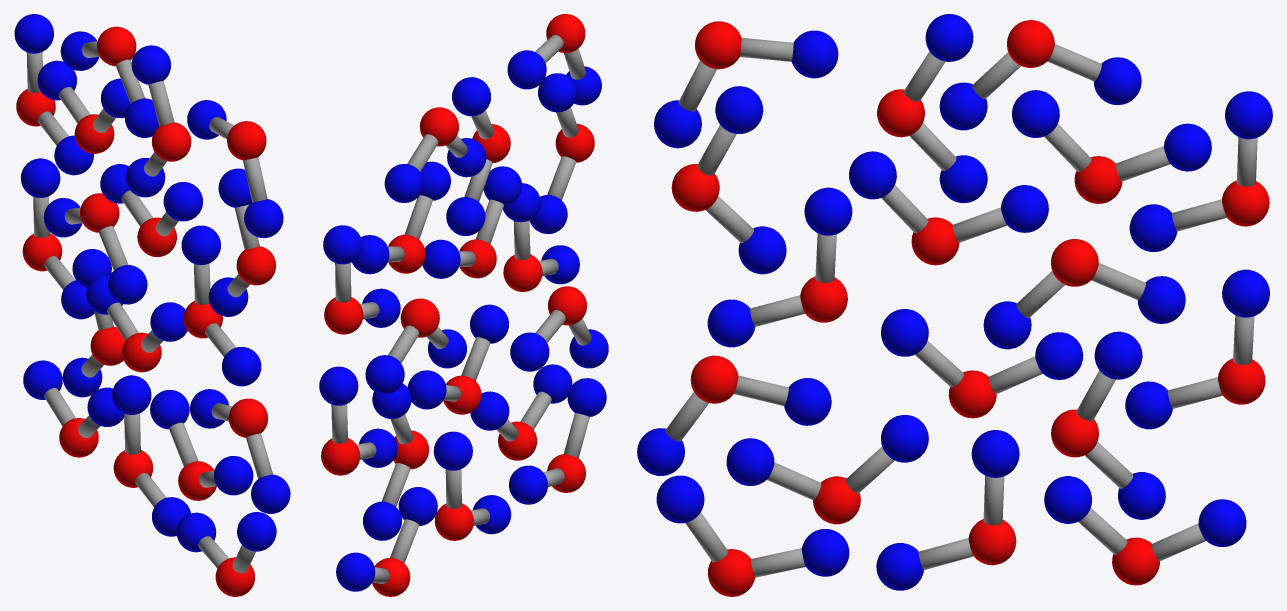
File: WaterLiquid.gltf
3 renders of one model, left to right at view 1: azimuth 30°, elevation 25°; view 2: azimuth 150°, elevation 25°; view 3: azimuth 270°, elevation 25°, orthographic. The views are drawn at different scales.
Parts seen in each view (by area): view 1: Sphere.008, Sphere.002, Sphere.004, Sphere.015, Sphere.005, Sphere.014, Sphere, Sphere.007, Sphere.016, Sphere.013, Sphere.009, Sphere.006 (+5 smaller); view 2: Sphere.006, Sphere.016, Sphere.012, Sphere.001, Sphere.013, Sphere.014, Sphere.005, Sphere.007, Sphere.004, Sphere.009, Sphere.015, Sphere.003 (+5 smaller); view 3: Sphere.007, Sphere.009, Sphere, Sphere.001, Sphere.012, Sphere.016, Sphere.003, Sphere.005, Sphere.010, Sphere.002, Sphere.008, Sphere.013 (+5 smaller).
Part boxes in pixels (x1,y1,x2,y2): Sphere.008: (181,225,261,386); Sphere.002: (187,100,283,238); Sphere.004: (125,45,191,197); Sphere.015: (112,375,190,536); Sphere.005: (190,389,290,513); Sphere.014: (14,14,93,175); Sphere: (150,390,253,500); Sphere.007: (43,193,147,304); Sphere.016: (176,512,276,596); Sphere.013: (20,158,94,319); Sphere.009: (60,26,159,137); Sphere.006: (208,168,276,316); Sphere.006: (529,73,594,233); Sphere.016: (509,378,606,504); Sphere.012: (336,487,437,596); Sphere.001: (407,304,508,414); Sphere.013: (319,366,397,475); Sphere.014: (323,225,400,334); Sphere.005: (510,286,608,371); Sphere.007: (365,298,466,394); Sphere.004: (446,77,510,235); Sphere.009: (384,107,486,202); Sphere.015: (433,431,511,540); Sphere.003: (422,166,522,278); Sphere.007: (983,239,1185,349); Sphere.009: (939,20,1141,130); Sphere: (726,414,928,524); Sphere.001: (881,309,1083,418); Sphere.012: (1044,476,1246,585); Sphere.016: (656,475,849,596); Sphere.003: (849,151,1048,265); Sphere.005: (637,355,831,475); Sphere.010: (1012,90,1211,203); Sphere.002: (654,21,838,148); Sphere.008: (707,187,852,347); Sphere.013: (1125,269,1269,429).
Size of the model in its own units: 1.53 by 13.36 by 13.23.
